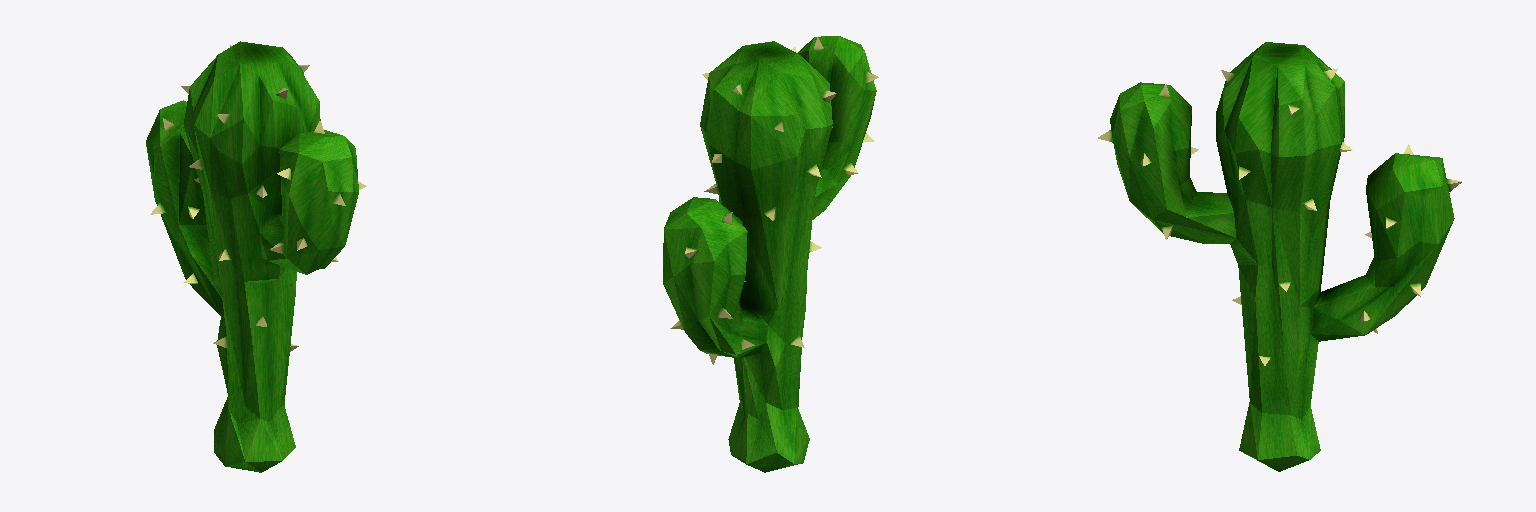
The picture shows the model from 3 angles: view 1: azimuth 30°, elevation 25°; view 2: azimuth 150°, elevation 25°; view 3: azimuth 270°, elevation 25°; orthographic projection.
Parts seen in each view (by area): view 1: Cactus_L.001_Plane.008; view 2: Cactus_L.001_Plane.008; view 3: Cactus_L.001_Plane.008.
Part boxes in pixels (x1,y1,x2,y2): Cactus_L.001_Plane.008: (146, 41, 366, 472); Cactus_L.001_Plane.008: (663, 36, 878, 472); Cactus_L.001_Plane.008: (1098, 42, 1461, 471).
Bounding box in the file's own units: 0.2529 × 0.8201 × 0.6579.
Materials: 1 (1 with a texture image).